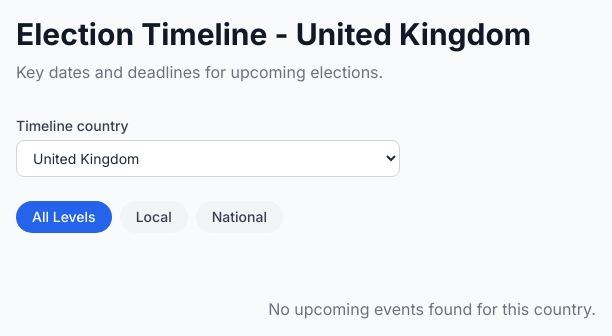
Test: page smoke coverage › Timeline renders filters for the selected UK country
The width and height of the screenshot is (612, 336).
Expected: the heading "Election Timeline - United Kingdom" is shown, [16, 16, 531, 52]
Expected: the button "All Levels" is shown, [16, 201, 112, 233]
Select "United States" in the dropdown labelled "Timeline country" at [208, 158], box [16, 140, 400, 177]
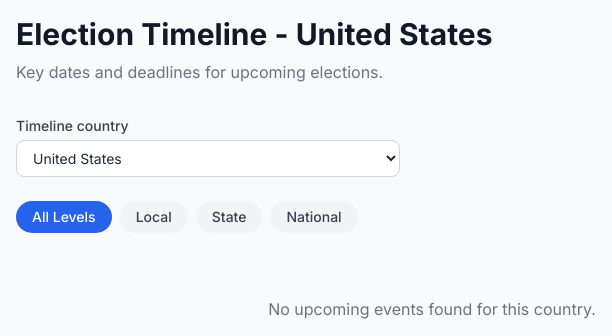
Expected: the button "state" is shown, [196, 201, 262, 233]
